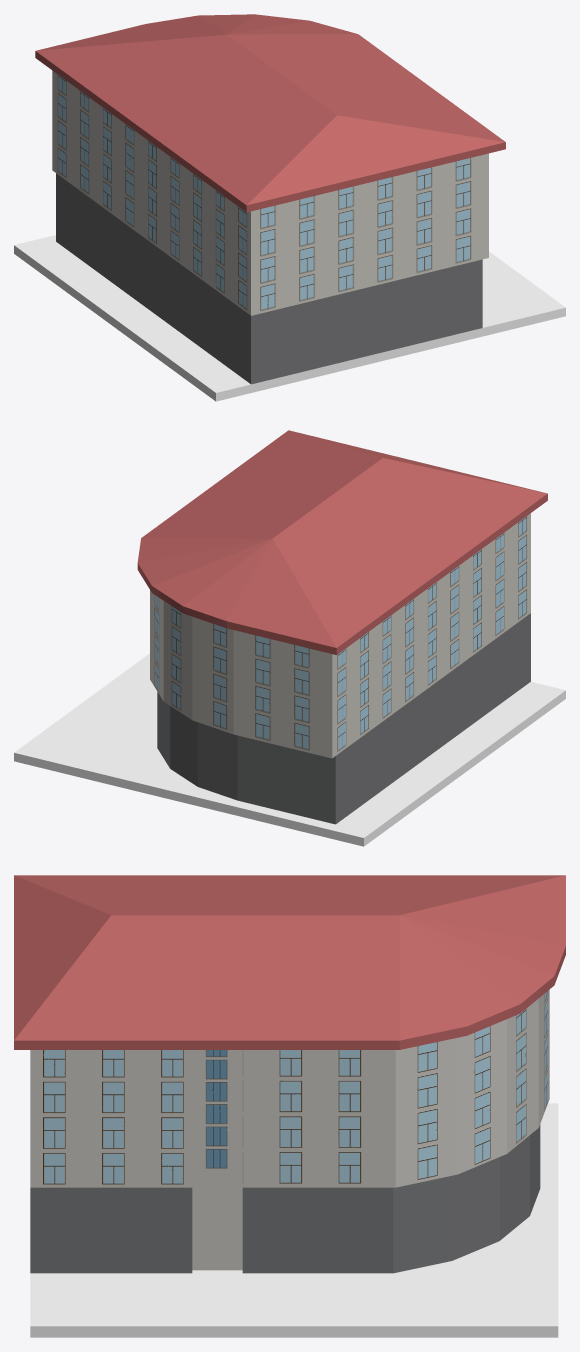
The model's file is eski-belediye.dae.
3 views of the same model, one above another, from view 1: azimuth 30°, elevation 25°; view 2: azimuth 150°, elevation 25°; view 3: azimuth 270°, elevation 25° (orthographic). The views are drawn at different scales.
Visible parts, largest first — view 1: group_0 (×3), group_1; view 2: group_0 (×3), group_1; view 3: group_0 (×5), group_1.
Boxes of the visible parts, box(x1,y1,x2,y2) form: group_0 (×3): box(35, 14, 505, 384); group_1: box(14, 235, 565, 401); group_0 (×3): box(137, 430, 547, 824); group_1: box(14, 653, 565, 846); group_0 (×5): box(14, 875, 565, 1273); group_1: box(30, 1103, 558, 1337).
Bounding box in the file's own units: 134 × 140 × 82.81.
7 materials, 6 textured.
